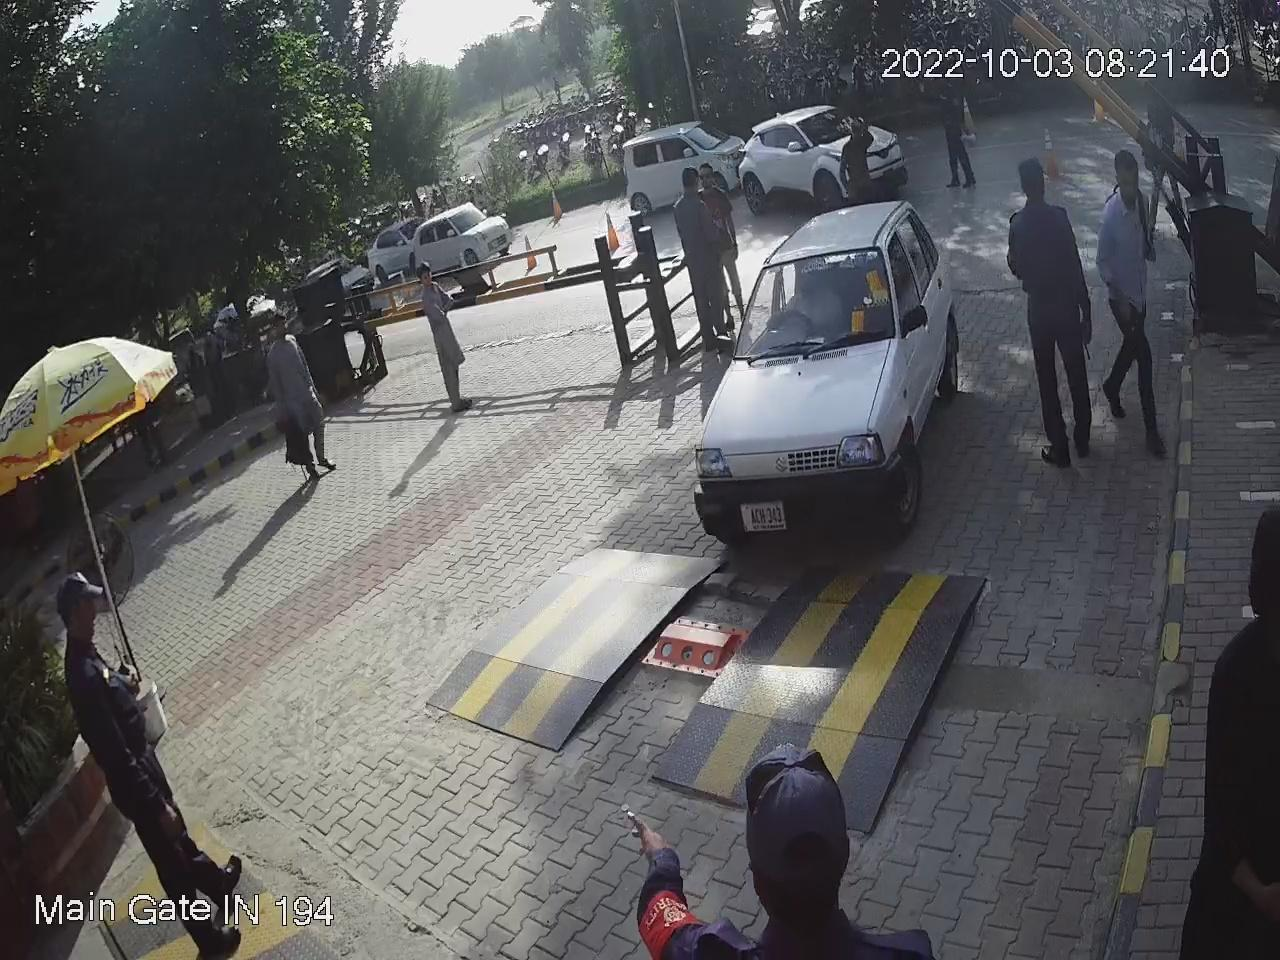windshield: (731, 238, 898, 360)
